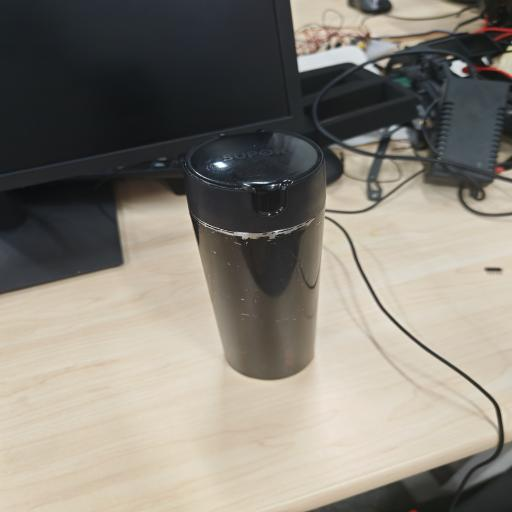mouse: (348, 0, 392, 14)
